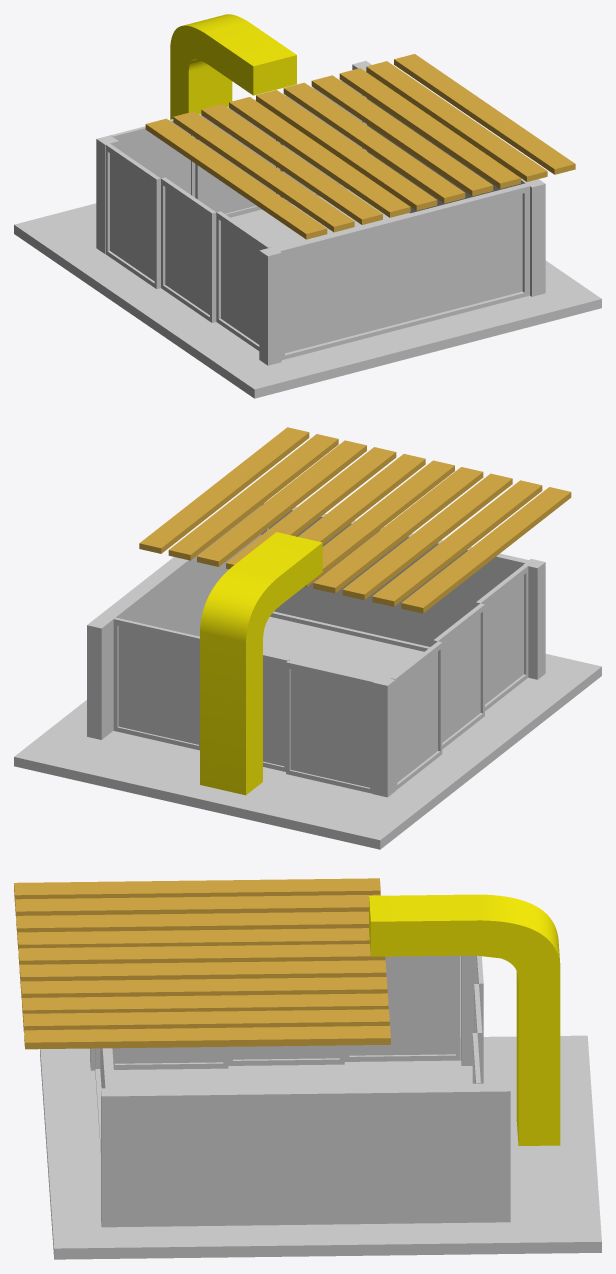
The model's file is Smile01.fbx.
3 renders of one model, top to bottom at view 1: azimuth 30°, elevation 25°; view 2: azimuth 150°, elevation 25°; view 3: azimuth 270°, elevation 25°, orthographic. The views are drawn at different scales.
Parts seen in each view (by area): view 1: _1_Box013_LOD0, _1_Box027_LOD0, _1_Box001_LOD0, _1_Box017_LOD0; view 2: _1_Box013_LOD0, _1_Box027_LOD0, _1_Box001_LOD0, _1_Box017_LOD0; view 3: _1_Box013_LOD0, _1_Box027_LOD0, _1_Box001_LOD0, _1_Box017_LOD0.
Boxes of the visible parts, bbox=[...] form: _1_Box013_LOD0: bbox=[96, 61, 545, 365]; _1_Box027_LOD0: bbox=[145, 54, 575, 239]; _1_Box001_LOD0: bbox=[14, 189, 601, 398]; _1_Box017_LOD0: bbox=[170, 14, 296, 119]; _1_Box013_LOD0: bbox=[87, 500, 545, 797]; _1_Box027_LOD0: bbox=[139, 427, 571, 613]; _1_Box001_LOD0: bbox=[14, 616, 601, 849]; _1_Box017_LOD0: bbox=[200, 532, 322, 795]; _1_Box013_LOD0: bbox=[90, 955, 510, 1227]; _1_Box027_LOD0: bbox=[14, 878, 390, 1049]; _1_Box001_LOD0: bbox=[40, 1035, 601, 1259]; _1_Box017_LOD0: bbox=[369, 894, 560, 1145].
Bounding box in the file's own units: 977 × 507 × 1140.
